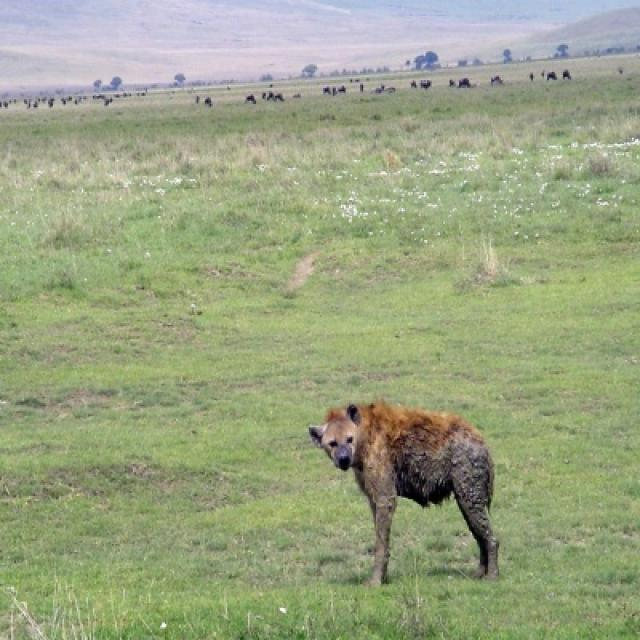hyena: (310, 400, 498, 582)
